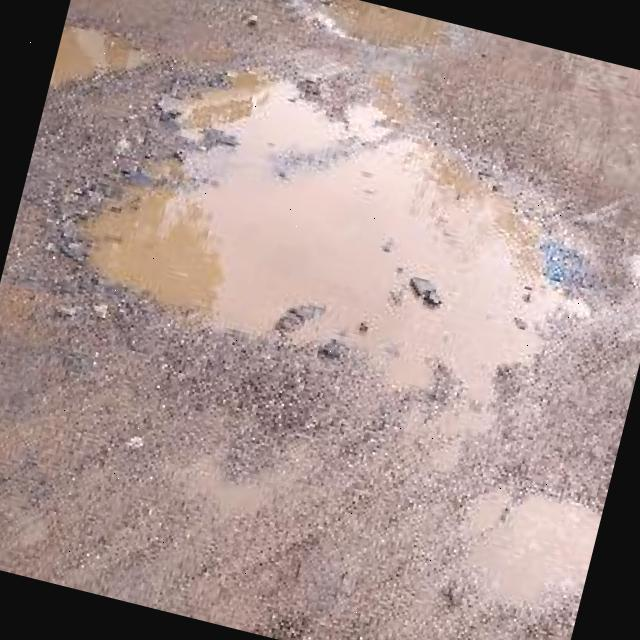stagnation: (66, 65, 597, 408)
